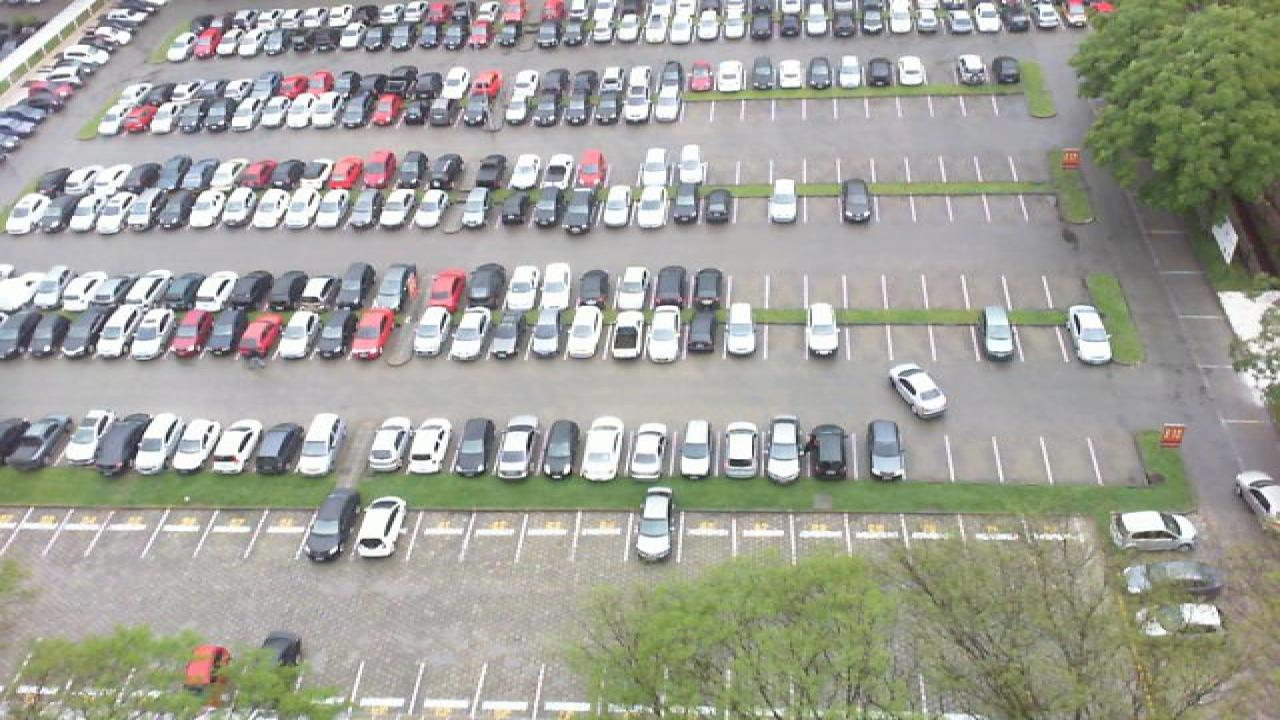Car: (1106, 510, 1200, 554), (304, 487, 356, 561), (16, 417, 82, 472), (890, 362, 948, 420), (96, 413, 150, 475), (354, 496, 406, 559), (634, 486, 676, 560), (52, 305, 108, 360), (208, 416, 260, 475), (130, 413, 182, 471), (296, 413, 344, 475), (406, 415, 454, 476), (16, 305, 70, 359), (492, 417, 538, 480), (60, 410, 114, 463), (234, 307, 286, 362), (582, 417, 626, 481), (452, 415, 496, 478), (128, 306, 180, 359), (170, 414, 220, 469), (630, 418, 674, 480), (346, 306, 396, 360), (166, 304, 214, 360), (1070, 305, 1116, 363), (94, 306, 144, 359), (536, 417, 578, 480), (366, 414, 414, 469), (308, 306, 358, 358), (202, 305, 250, 358), (484, 305, 530, 360), (272, 305, 318, 360), (806, 422, 848, 482), (720, 420, 762, 480), (868, 420, 908, 481), (764, 419, 804, 480), (678, 419, 718, 480), (252, 419, 298, 472), (564, 304, 606, 361), (32, 266, 84, 312), (446, 306, 490, 360), (408, 304, 450, 359), (526, 305, 568, 359), (72, 268, 120, 314), (804, 301, 844, 356), (720, 301, 760, 356), (646, 305, 686, 360), (144, 269, 192, 314), (4, 188, 52, 233), (978, 307, 1018, 360), (420, 266, 466, 312), (222, 269, 268, 315), (608, 306, 646, 361), (108, 269, 154, 314), (498, 263, 540, 312), (262, 268, 306, 314), (184, 269, 228, 315), (212, 186, 256, 232), (152, 187, 196, 233), (374, 182, 414, 232), (120, 187, 164, 232), (464, 262, 506, 308), (92, 187, 134, 233), (376, 261, 416, 309), (684, 305, 722, 355), (184, 185, 226, 230), (312, 184, 352, 231), (564, 184, 602, 233), (62, 189, 104, 233), (650, 264, 690, 310), (572, 266, 612, 312), (536, 261, 572, 312), (340, 262, 378, 310), (528, 185, 568, 230), (246, 185, 286, 230), (344, 182, 382, 229), (300, 268, 340, 312), (278, 185, 318, 229), (690, 264, 728, 310), (612, 264, 650, 310), (408, 184, 446, 229), (838, 178, 874, 224), (496, 185, 534, 228), (474, 185, 510, 230), (634, 181, 668, 227), (668, 182, 702, 226), (600, 184, 634, 228), (766, 179, 798, 223), (700, 185, 734, 225)
